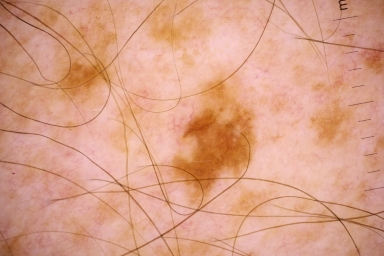melanoma: (169, 111, 258, 190), (62, 62, 99, 93)
